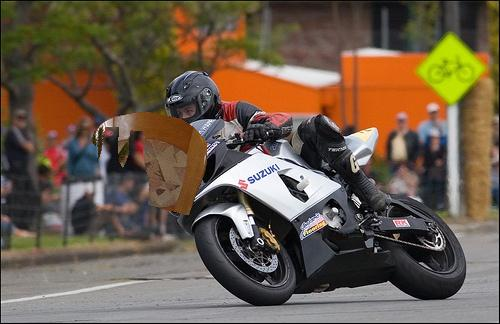tampered: (91, 112, 207, 215)
